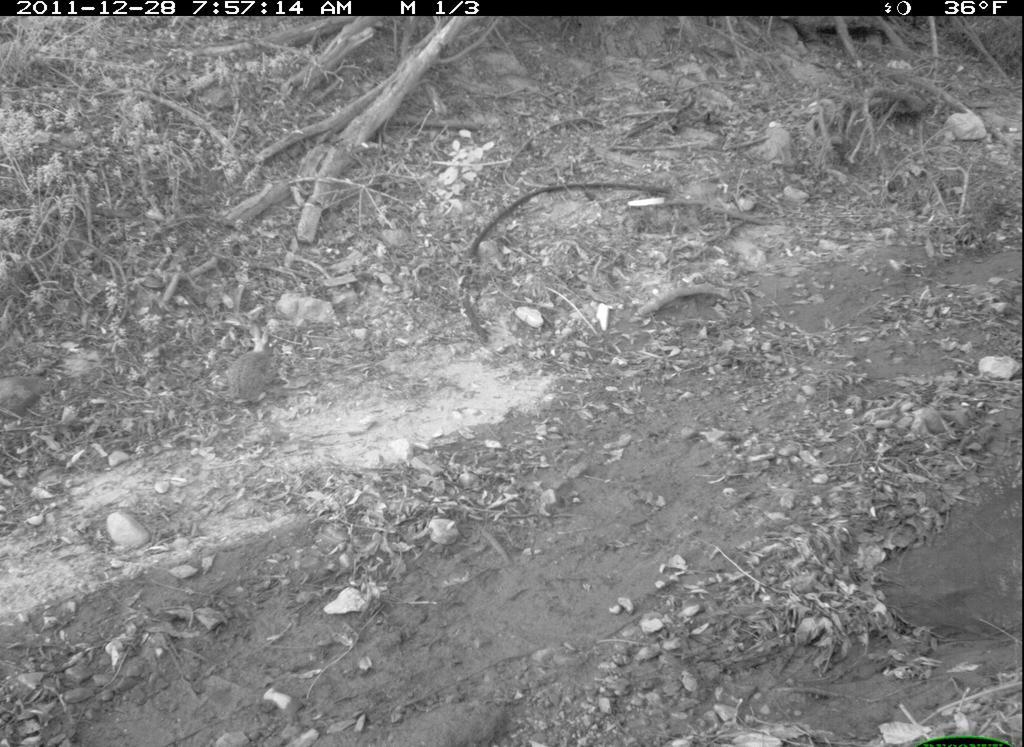rabbit: (223, 317, 297, 400)
